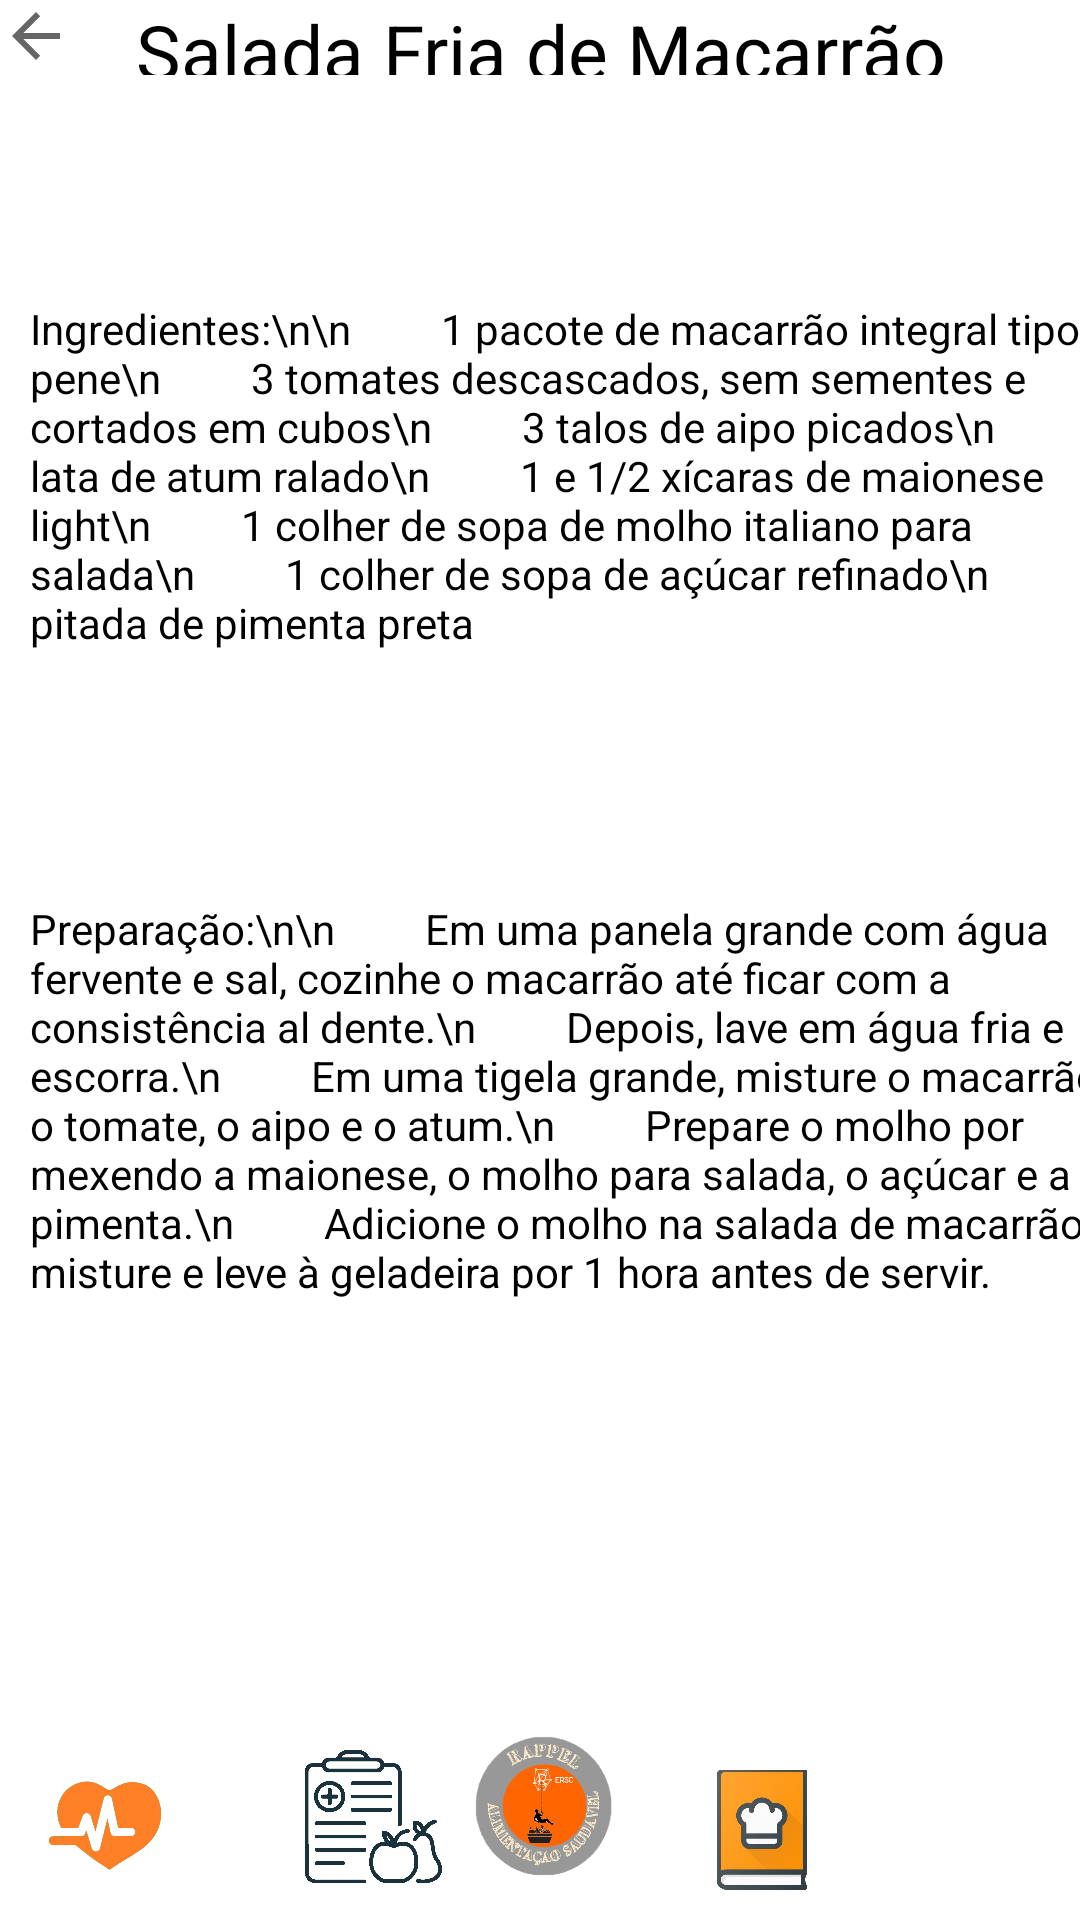

Named icons in this screenshot (1080 × 1920) and their bounding boxes, (x1, y1, x2, y2):
plano: (304, 1750, 442, 1883)
planodesaude: (49, 1781, 161, 1870)
